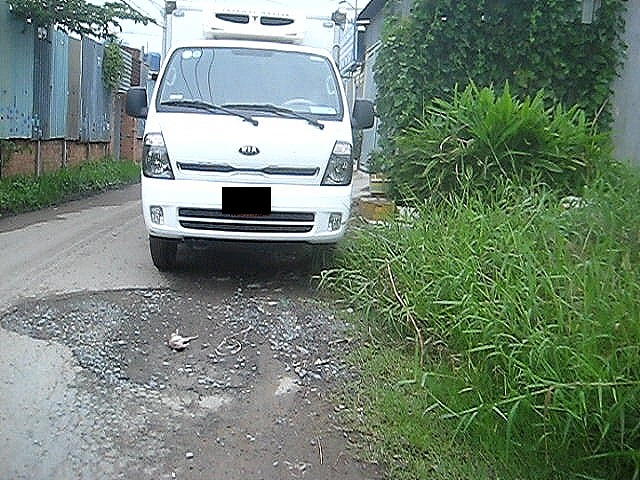hole: (1, 286, 290, 412)
